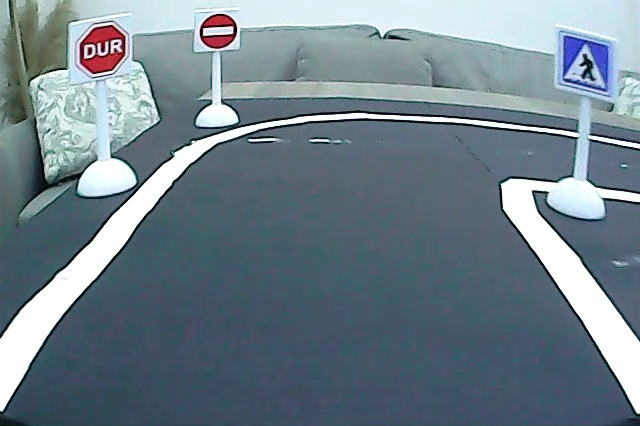do not enter: (198, 11, 238, 51)
pedestrian crossing: (559, 32, 615, 97)
stop sign: (74, 19, 130, 78)
